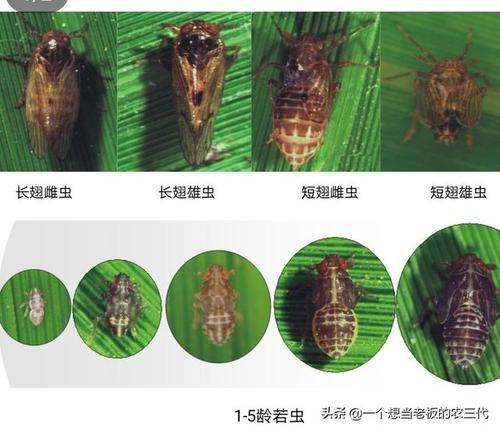Delphacidae: (252, 15, 380, 167), (132, 17, 243, 165), (1, 15, 112, 162), (384, 21, 497, 149), (284, 251, 381, 362), (412, 250, 500, 371), (192, 262, 243, 346), (93, 271, 146, 338), (18, 286, 47, 327)
